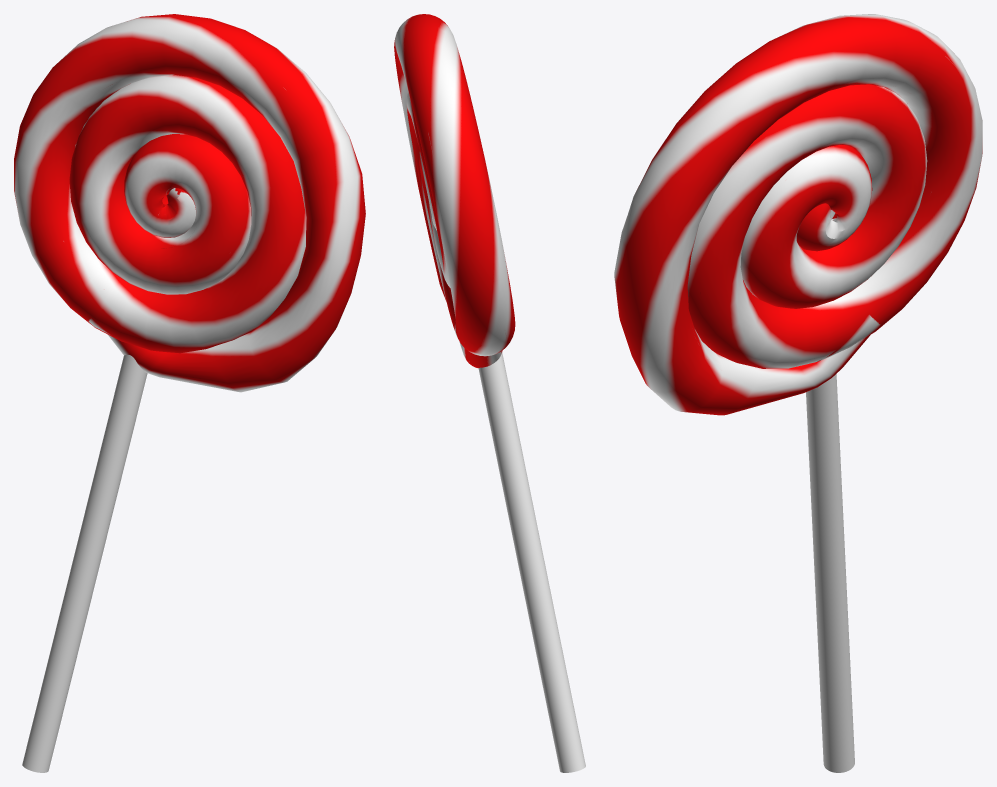
Rendered from lollipop.glb.
The picture shows the model from 3 angles, left to right: view 1: azimuth 30°, elevation 25°; view 2: azimuth 150°, elevation 25°; view 3: azimuth 270°, elevation 25°; orthographic projection. The views are drawn at different scales.
Parts seen in each view (by area): view 1: Cylinder.012, Cylinder.001; view 2: Cylinder.012, Cylinder.001; view 3: Cylinder.012, Cylinder.001.
Boxes of the visible parts, x1,y1,x2,y2 form: Cylinder.012: (14, 14, 365, 392); Cylinder.001: (22, 355, 147, 772); Cylinder.012: (394, 14, 515, 368); Cylinder.001: (478, 352, 585, 772); Cylinder.012: (614, 14, 982, 415); Cylinder.001: (806, 374, 854, 772).
Bounding box in the file's own units: 1.37 × 3.63 × 1.46.
Materials: 2 (1 with a texture image).
